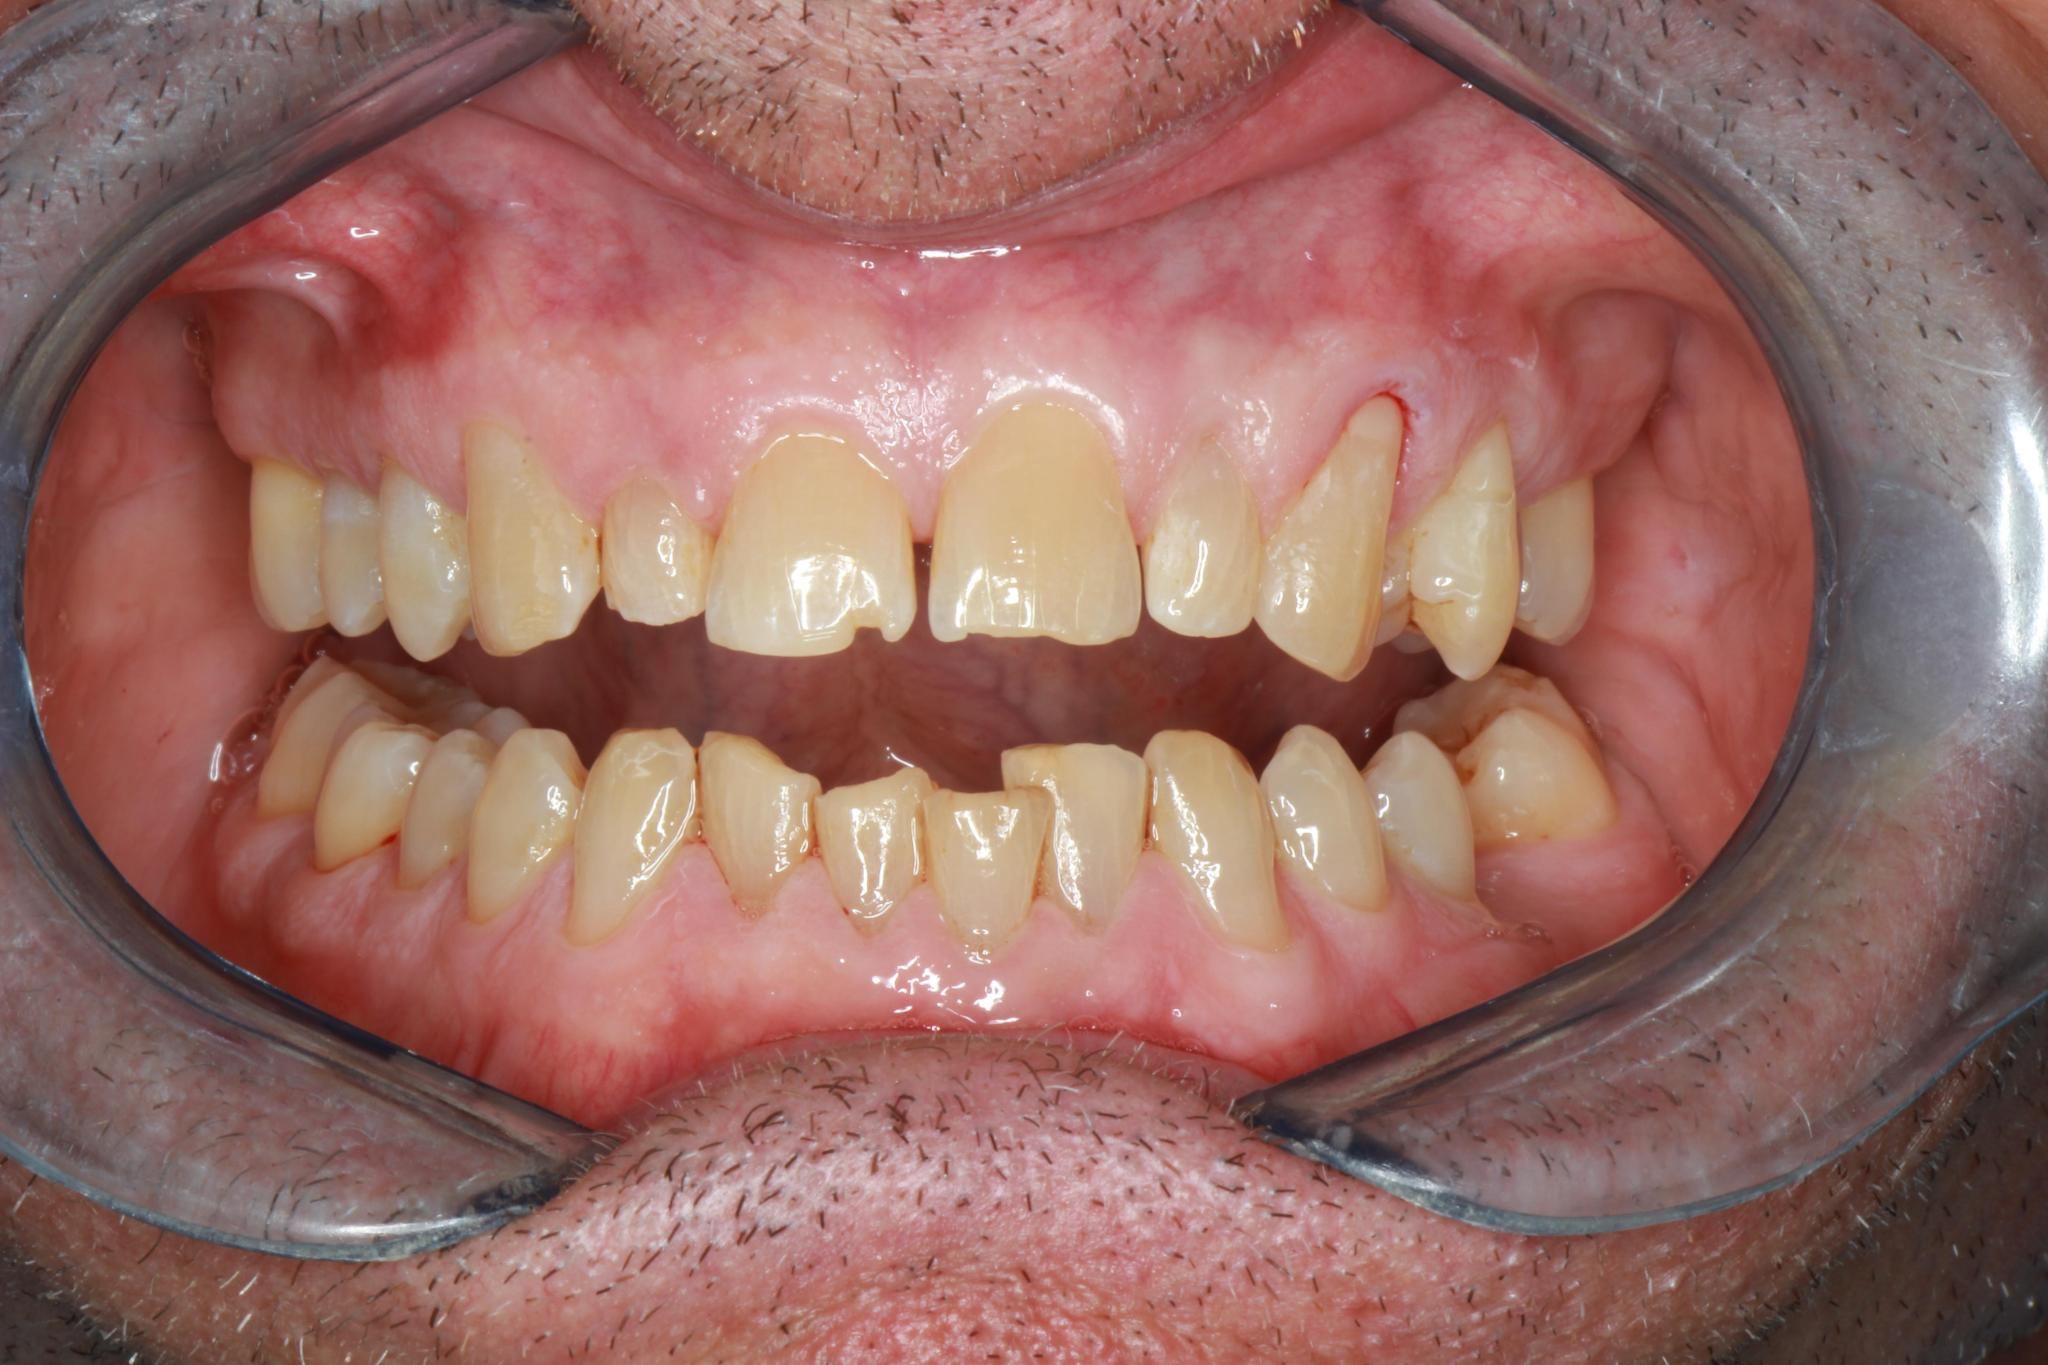Crowding: (924, 739, 1140, 937), (711, 739, 904, 926)
Gap: (813, 477, 1017, 646)
Healthy: (1177, 730, 1401, 908)
